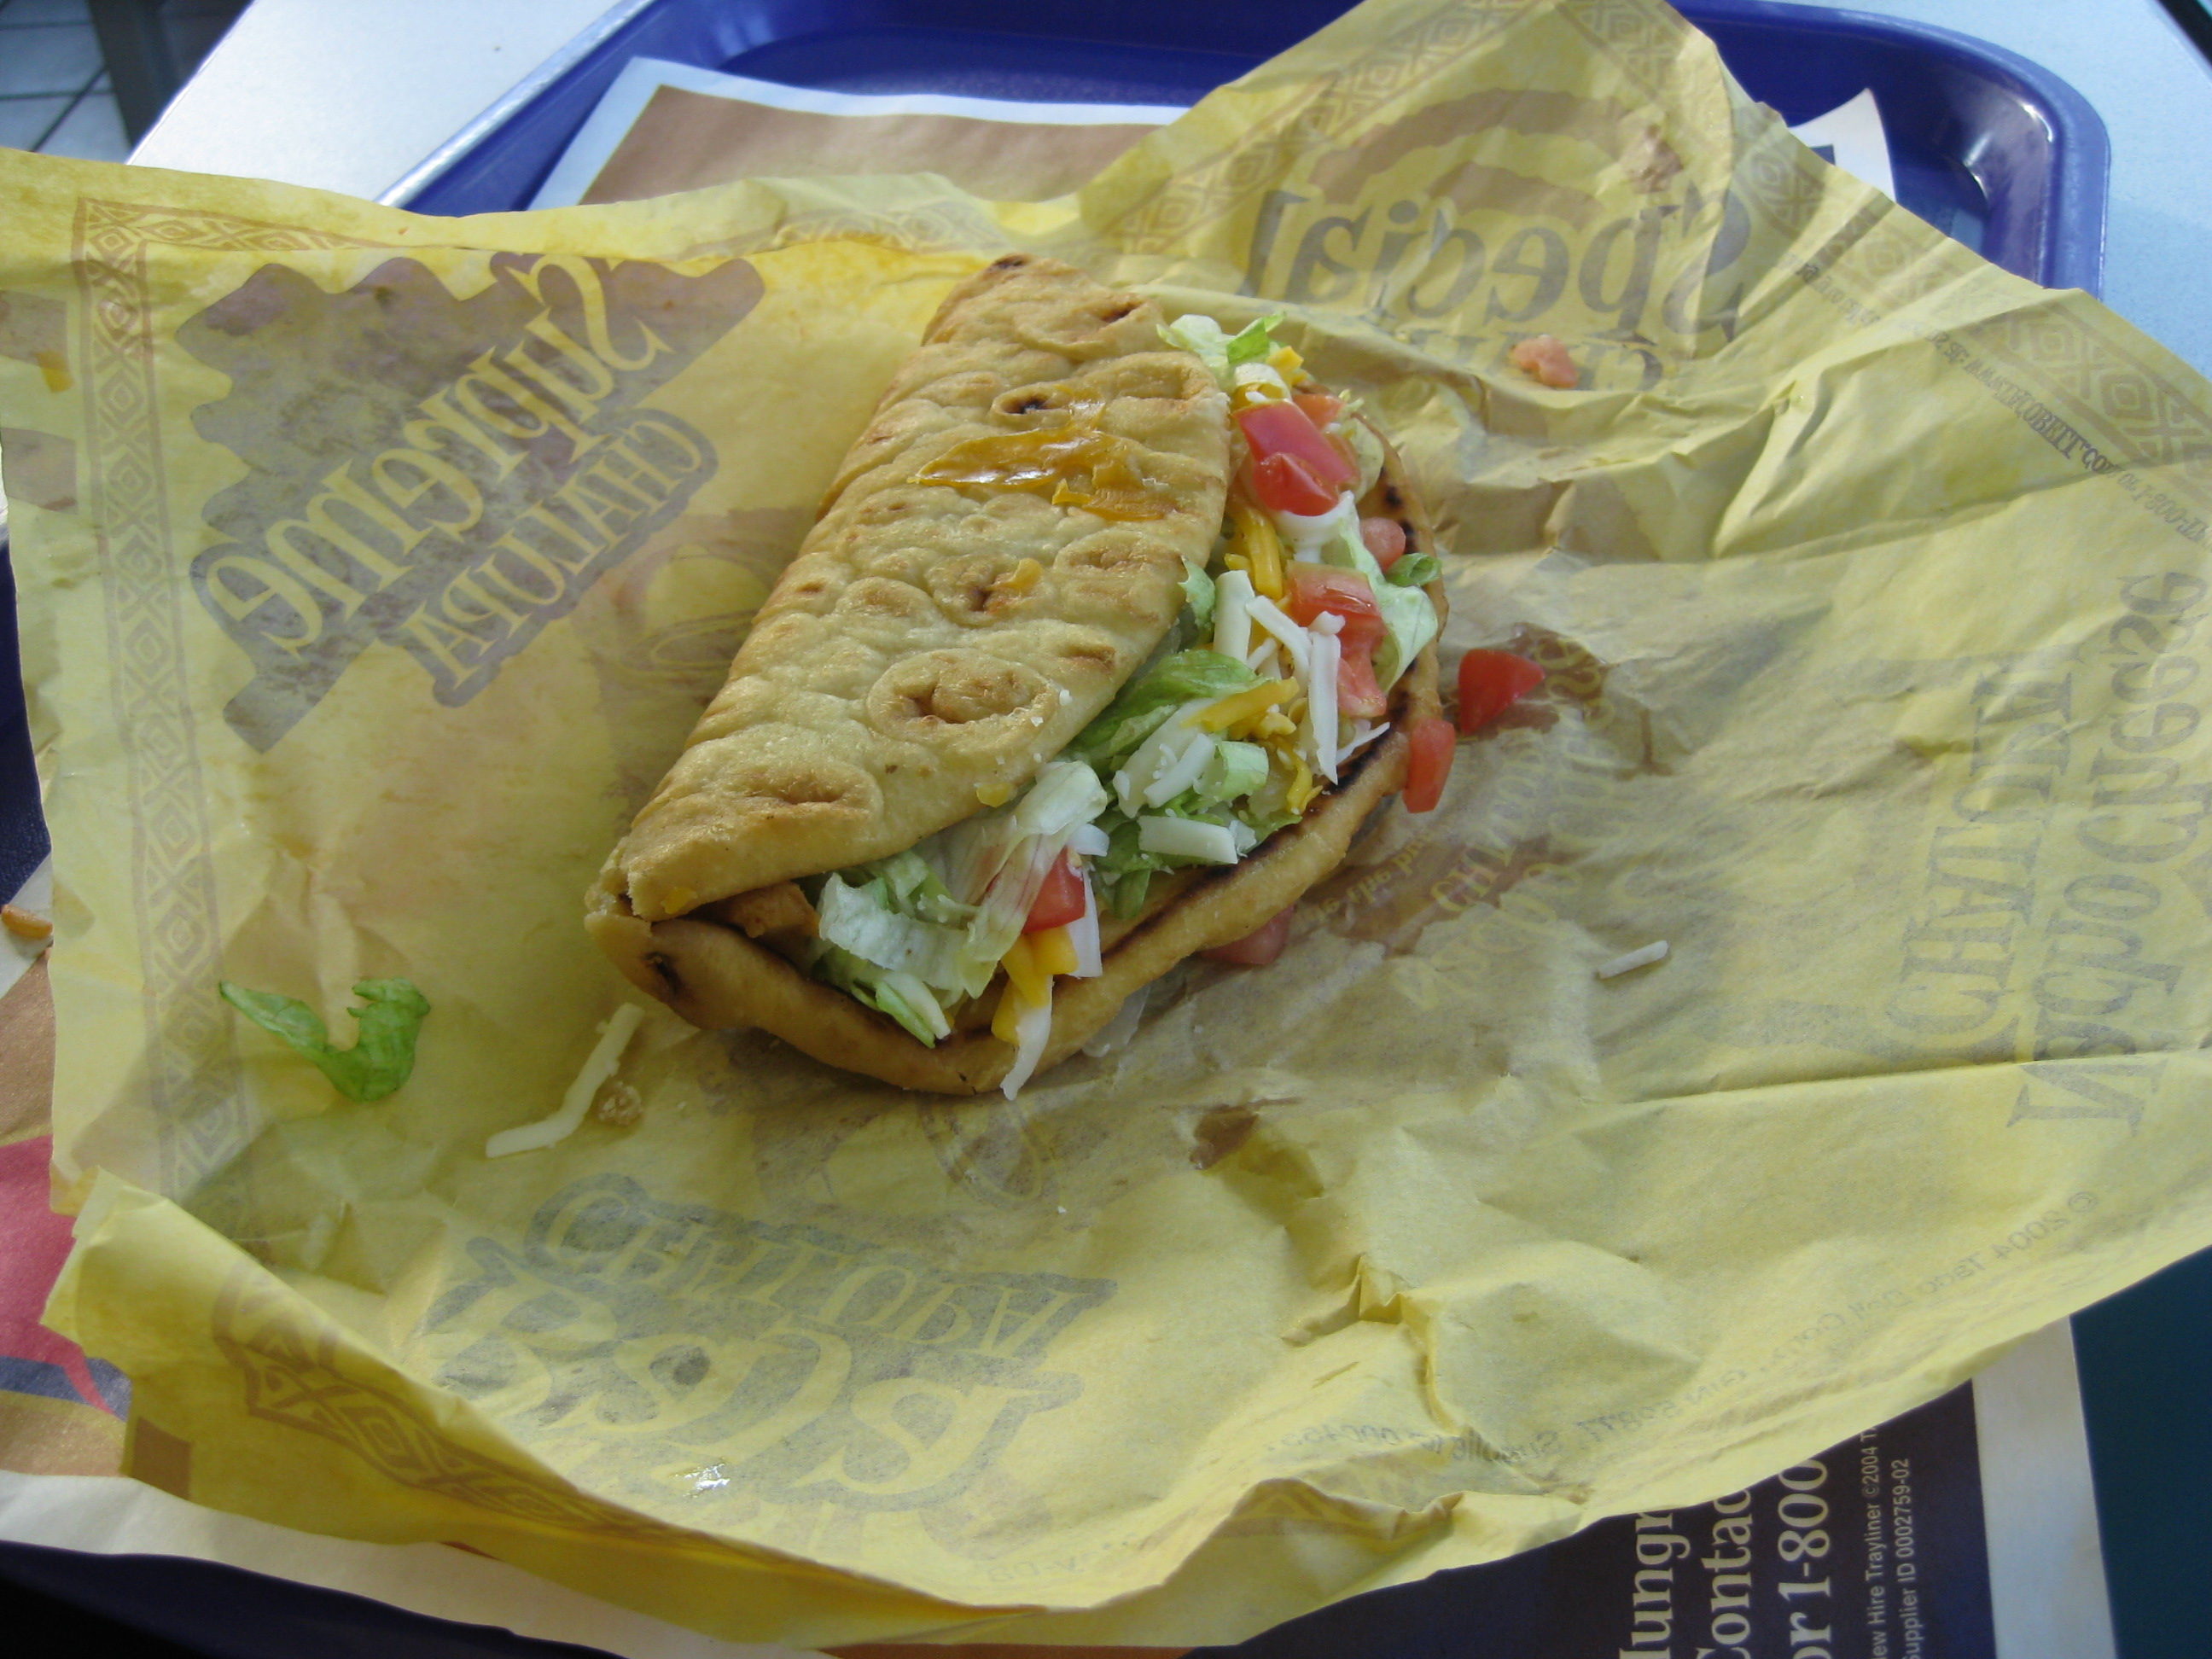taco: (585, 248, 1458, 1082)
